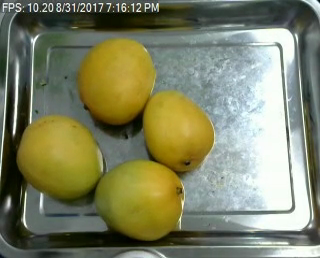Mango: (15, 116, 106, 201), (94, 159, 185, 241), (76, 39, 156, 126), (143, 91, 216, 169)
